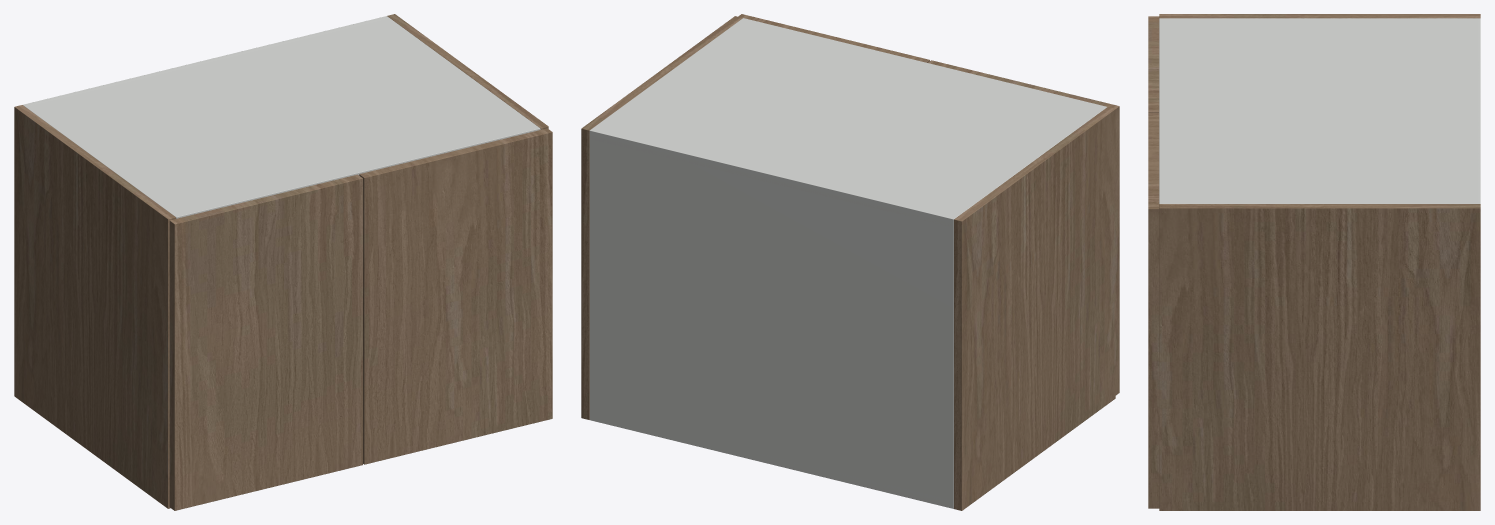
File: oppein-pb-mnw-w332424.glb
3 views of the same model, side by side, from view 1: azimuth 30°, elevation 25°; view 2: azimuth 150°, elevation 25°; view 3: azimuth 270°, elevation 25° (orthographic). The views are drawn at different scales.
Parts seen in each view (by area): view 1: Door, Door.001, Cabinet top, Cabinet side, Cabinet side.001, Cabinet back; view 2: Cabinet back, Cabinet top, Cabinet side, Cabinet side.001, Door, Door.001; view 3: Cabinet side.001, Cabinet top, Door.001, Cabinet side, Cabinet back, Door.
Part boxes in pixels (left/top/right/bottom): Door: left=169, top=174, right=362, bottom=510; Door.001: left=359, top=128, right=552, bottom=464; Cabinet top: left=23, top=18, right=540, bottom=218; Cabinet side: left=14, top=105, right=175, bottom=508; Cabinet side.001: left=387, top=14, right=548, bottom=129; Cabinet back: left=23, top=16, right=388, bottom=106; Cabinet back: left=589, top=128, right=956, bottom=508; Cabinet top: left=589, top=18, right=1106, bottom=225; Cabinet side: left=954, top=107, right=1115, bottom=510; Cabinet side.001: left=581, top=16, right=742, bottom=419; Door: left=928, top=60, right=1119, bottom=395; Door.001: left=738, top=14, right=929, bottom=62; Cabinet side.001: left=1159, top=204, right=1480, bottom=510; Cabinet top: left=1159, top=18, right=1480, bottom=203; Door.001: left=1148, top=113, right=1159, bottom=508; Cabinet side: left=1159, top=14, right=1480, bottom=18; Cabinet back: left=1474, top=18, right=1480, bottom=203; Door: left=1148, top=16, right=1159, bottom=112.
Bounding box in the file's own units: 0.8382 × 0.6096 × 0.6064.
2 materials, 1 textured.
